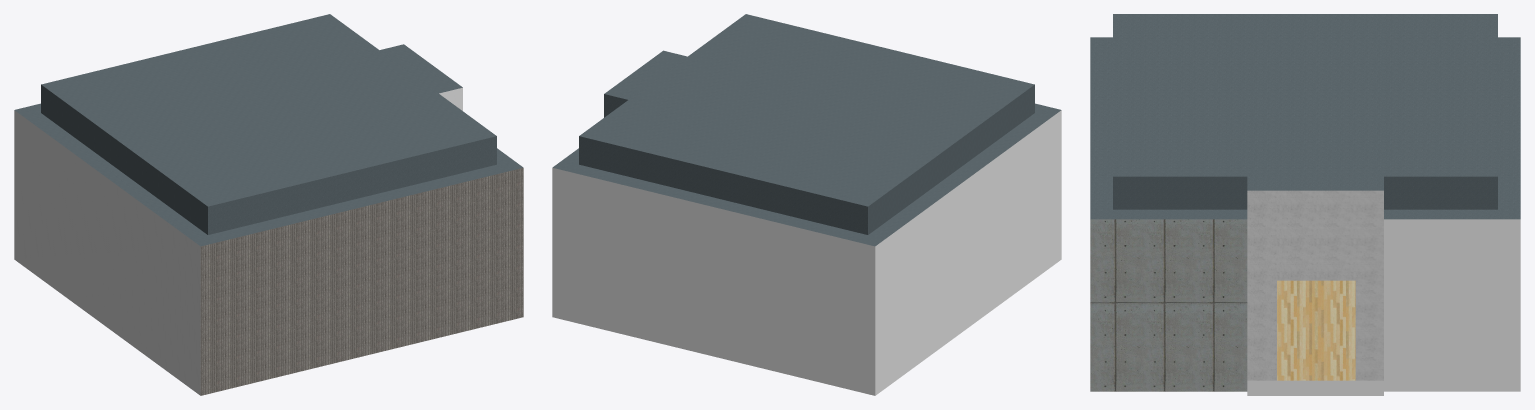
Rendered from Test_building.glb.
3 views of the same model, side by side, from view 1: azimuth 30°, elevation 25°; view 2: azimuth 150°, elevation 25°; view 3: azimuth 270°, elevation 25° (orthographic). The views are drawn at different scales.
Parts seen in each view (by area): view 1: one_room; view 2: one_room; view 3: one_room.
Part boxes in pixels (box(x1,y1,x2,y2)): one_room: box(14, 14, 523, 395); one_room: box(552, 14, 1061, 395); one_room: box(1090, 14, 1520, 395).
Size of the model in its own units: 430 by 221 by 420.
9 materials, 8 textured.
